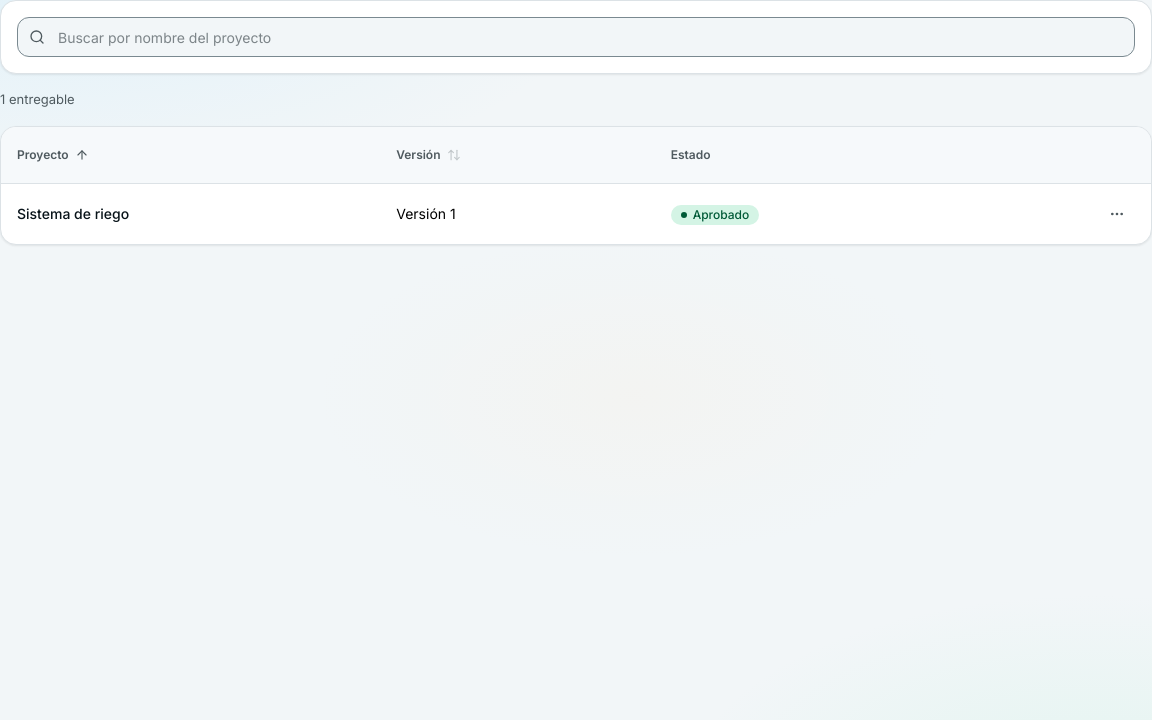
Test: ConsultarEntregablesAsesor › "Ver artefactos" abre el panel del entregable elegido y cerrarlo lo quita
The image size is (1152, 720).
What coordinates should you click on to do the following:
click the button named "Acciones del entregable de Sistema de riego"
I would click on:
 (1117, 214)
Its box is [1099,196,1135,232].
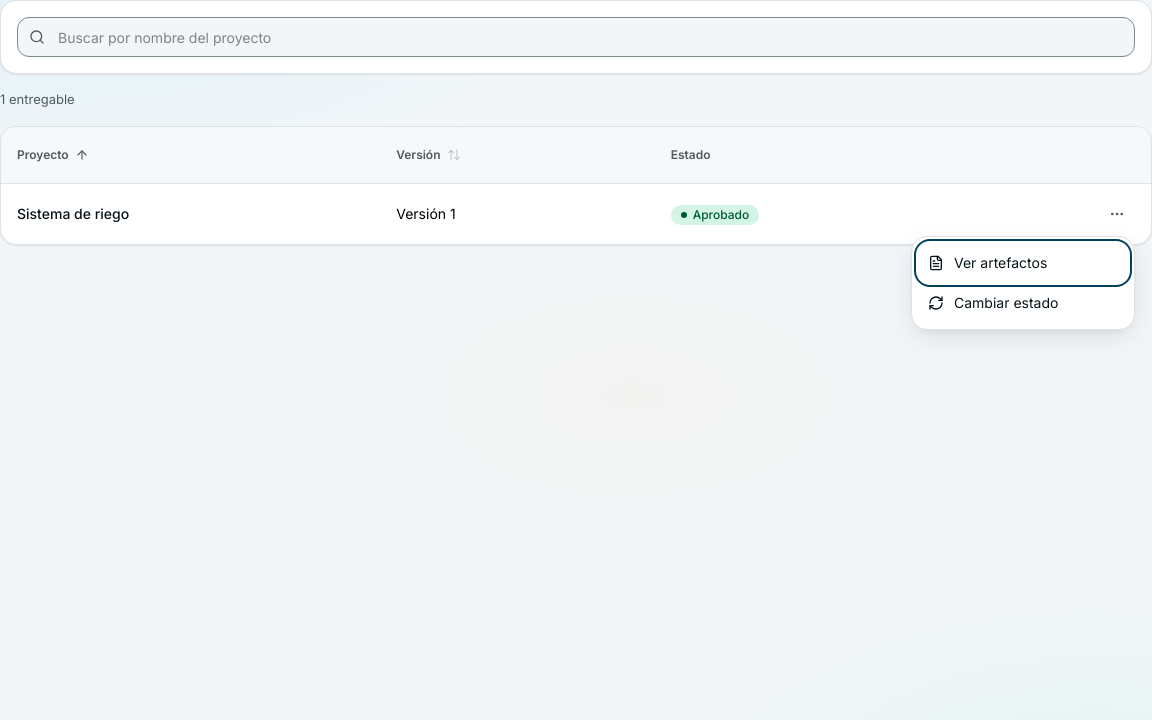
What coordinates should you click on to do the following:
click the menu item "Ver artefactos"
I would click on:
 (1023, 263)
Its box is [918,243,1128,283].
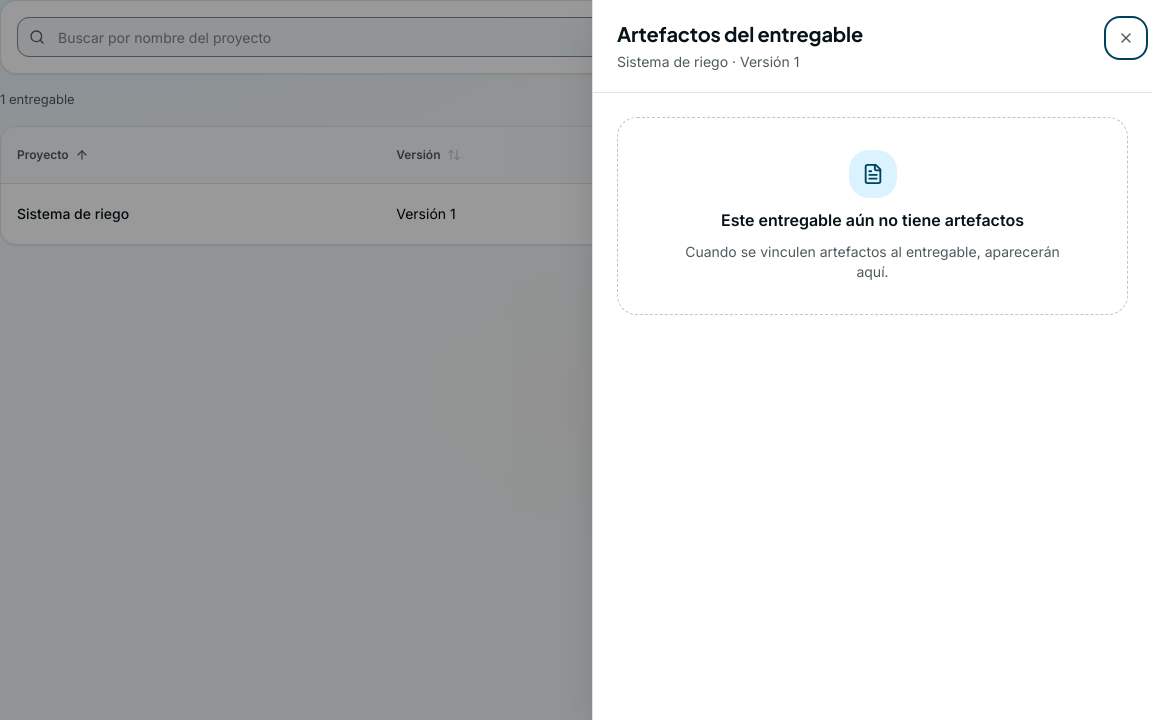
Result: the text "Este entregable aún no tiene artefactos" is shown at [721,208,1024,232]
What coordinates should you click on to do the following:
click the button named "Cerrar panel"
I would click on:
 (1126, 38)
Its box is [1108,20,1144,56].
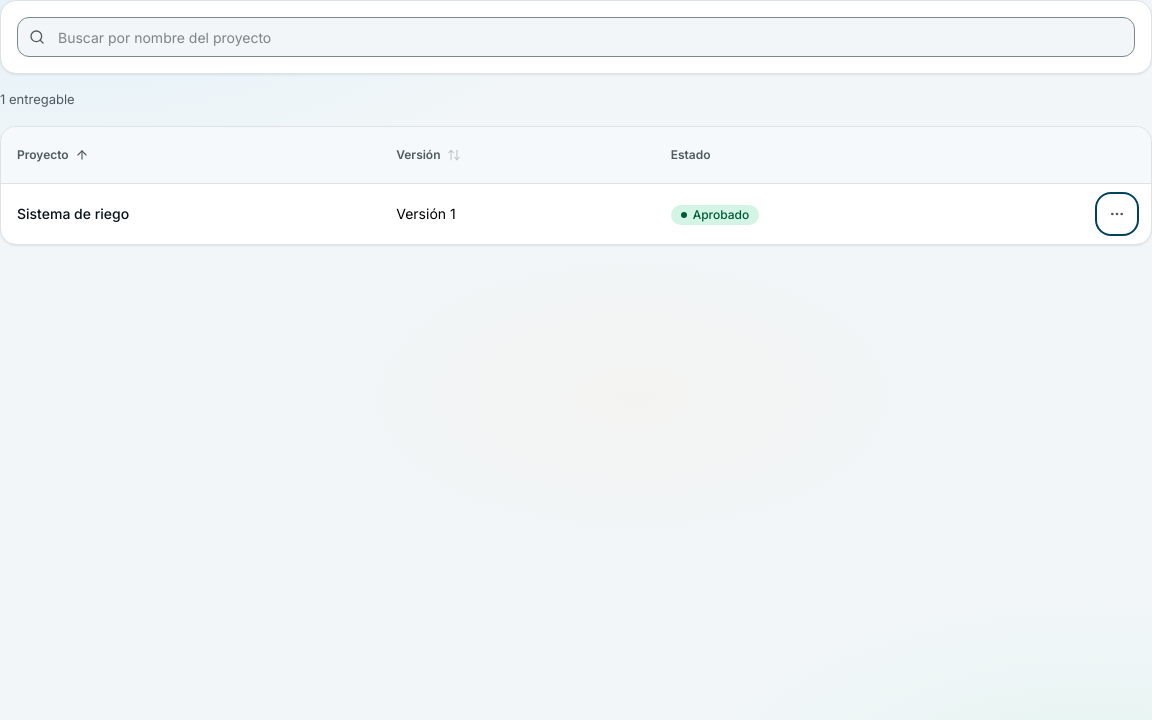
Result: the text "Este entregable aún no tiene artefactos" is gone
